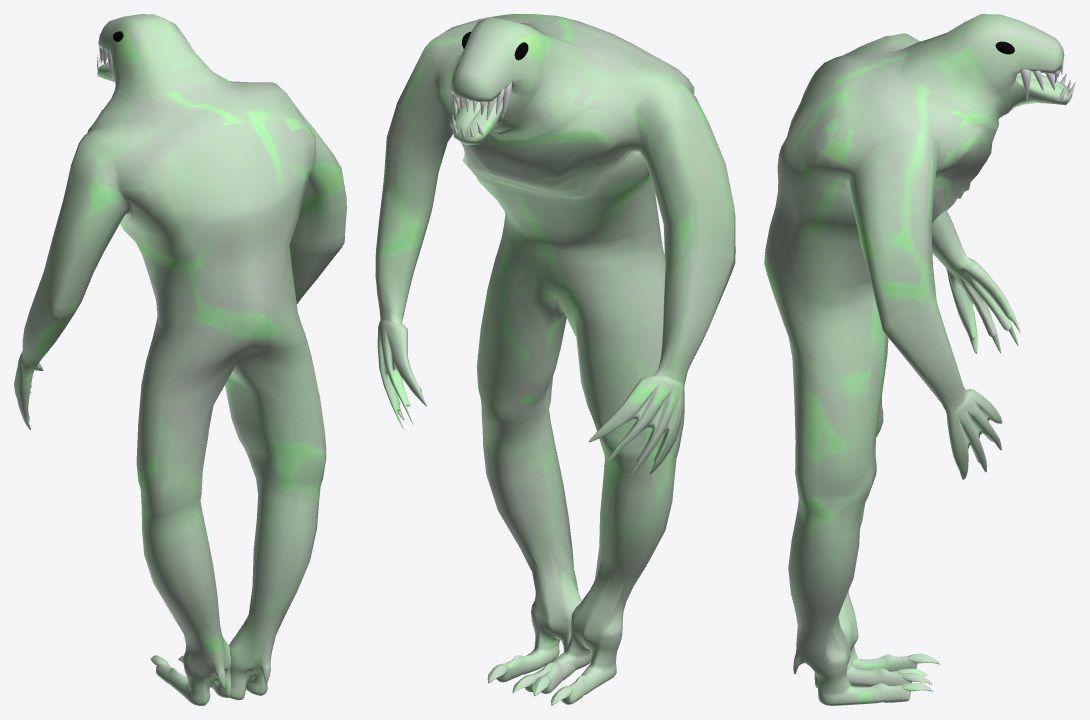
Rendered from Berserkerandar.0007.obj.
3 renders of one model, left to right at view 1: azimuth 30°, elevation 25°; view 2: azimuth 150°, elevation 25°; view 3: azimuth 270°, elevation 25°, orthographic. The views are drawn at different scales.
Visible parts, largest first — view 1: polySurface27; view 2: polySurface27; view 3: polySurface27.
Boxes of the visible parts, <box> form: polySurface27: <box>14,14,346,705</box>; polySurface27: <box>375,14,735,705</box>; polySurface27: <box>764,14,1075,705</box>.
Bounding box in the file's own units: 11.76 × 23.68 × 10.03.
1 material, 1 textured.
